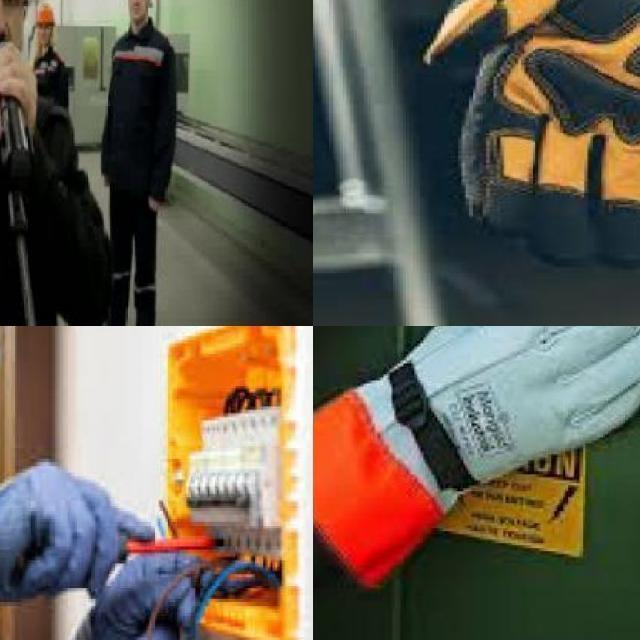apron: (333, 326, 640, 575), (419, 0, 640, 271), (0, 448, 129, 590), (43, 560, 200, 640)
